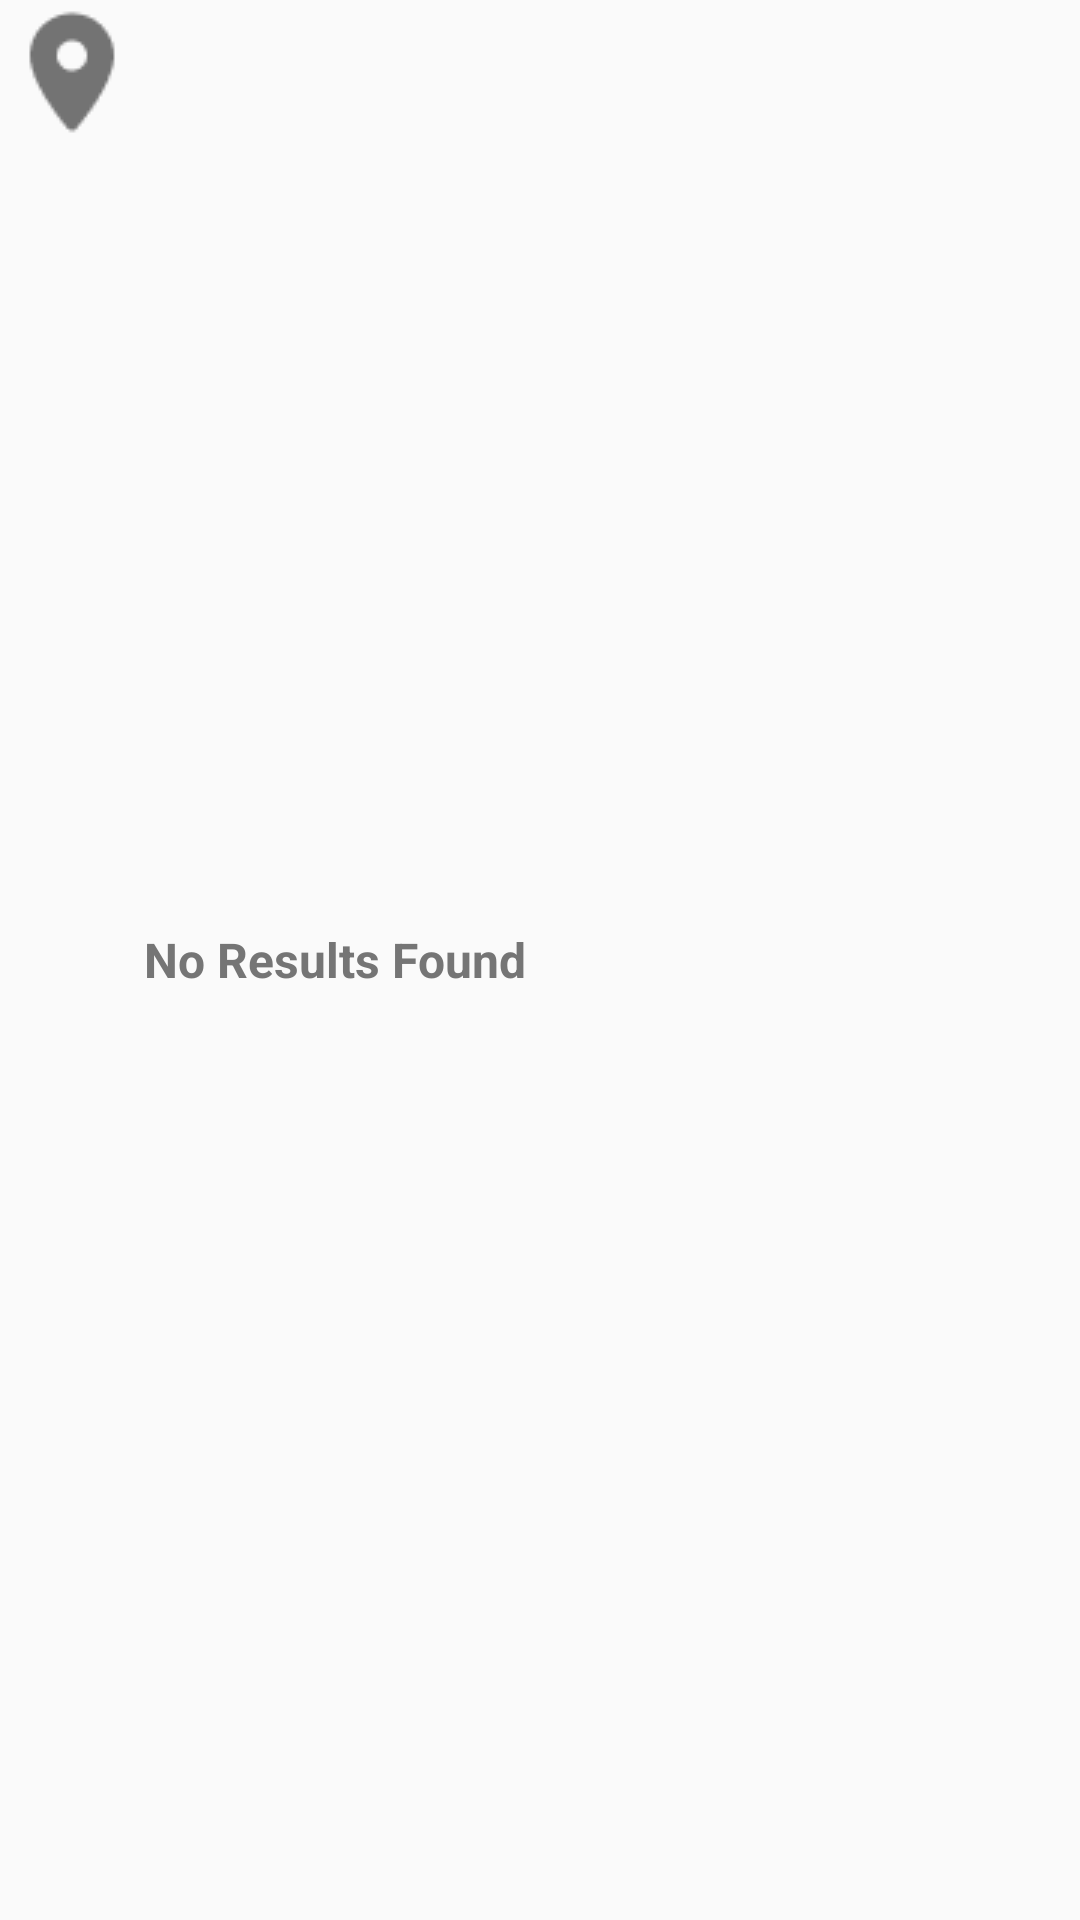

Icons on this 1080px×1920px Android screen, each with its box as (x1, y1, x2, y2):
location: (29, 12, 115, 132)
